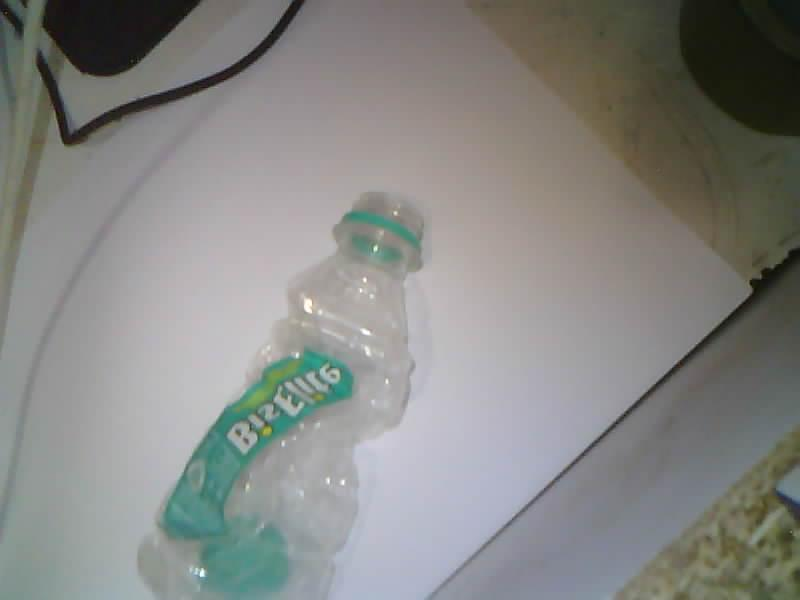non-biodegradable: (138, 194, 421, 599)
